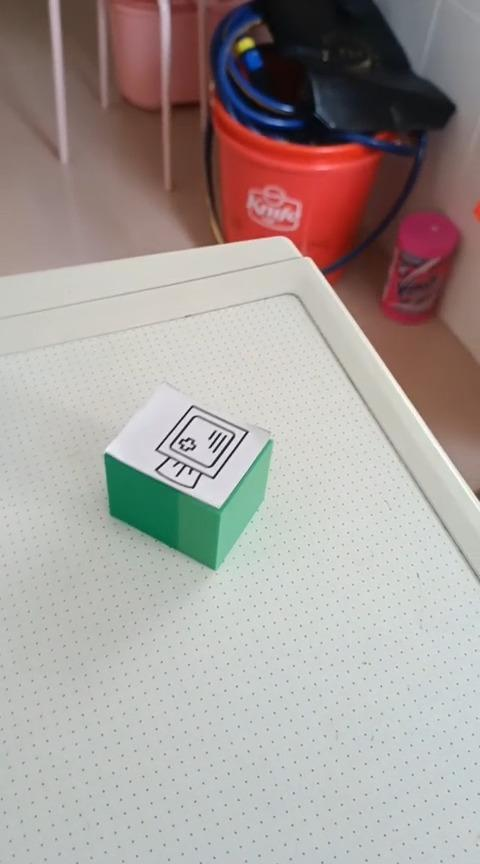Gauze: (102, 380, 274, 571)
